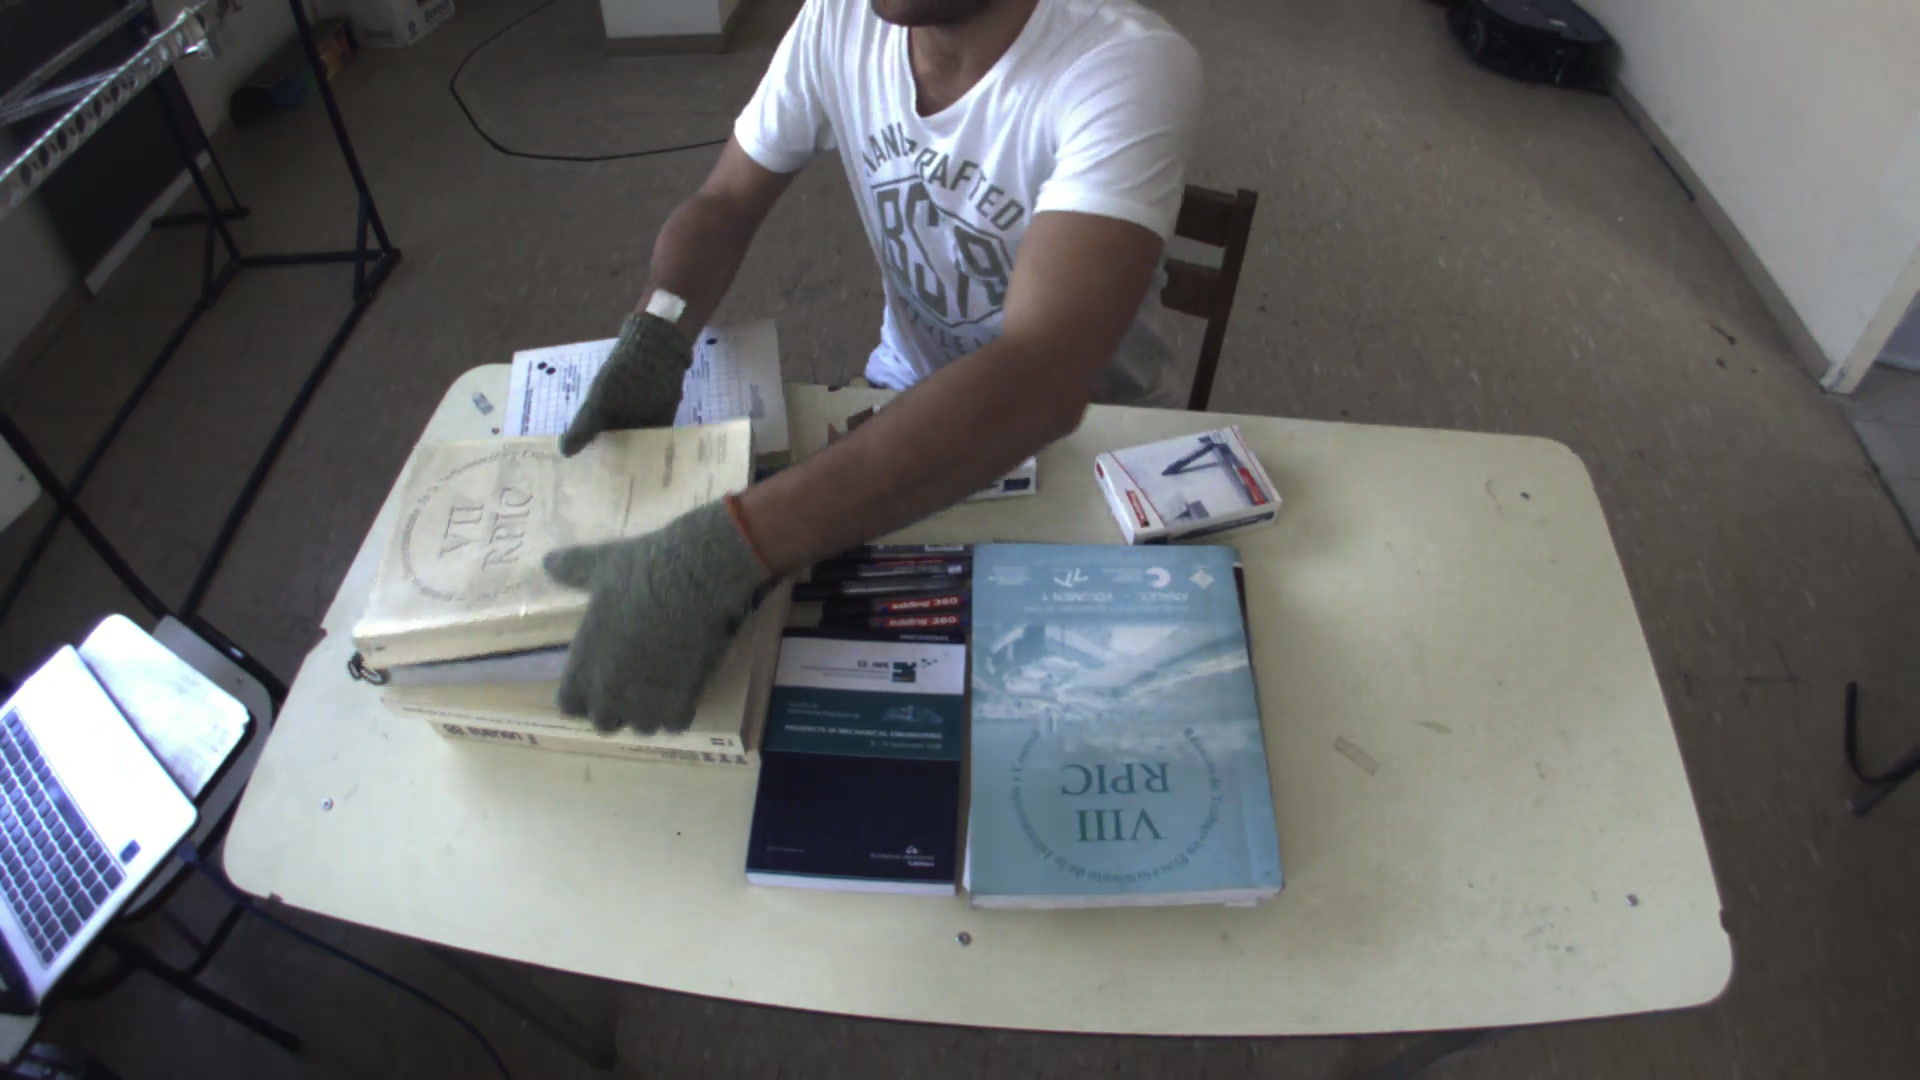hand: (526, 502, 774, 737), (551, 305, 692, 451)
